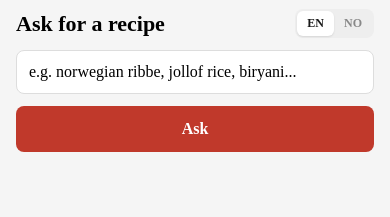
Test: AskScreen › shows an error banner when the backend reports an error field
In the field with test id "ask-input": (195, 72) [16,50,374,94], type "test"
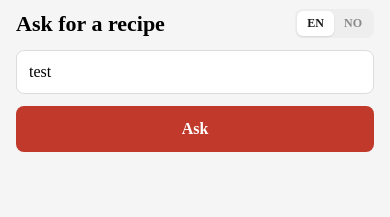
Click the element with test id "ask-submit": click(195, 129) [16,106,374,152]
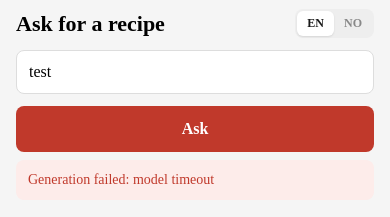
Now the text "Generation failed: model timeout" is shown, box [28,172,214,187]
